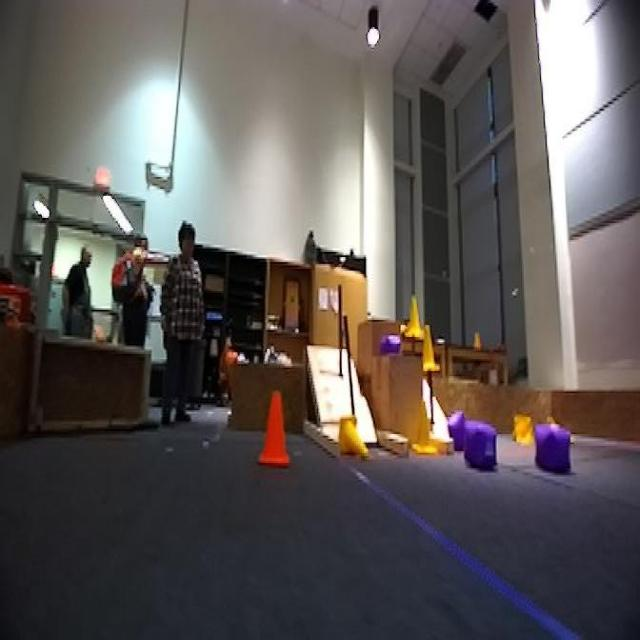frc_cone: (412, 397, 441, 456), (340, 416, 370, 462), (402, 294, 428, 340), (508, 412, 537, 446), (421, 325, 441, 373)
frc_cube: (535, 421, 575, 474), (463, 419, 497, 466), (444, 410, 468, 448), (378, 334, 402, 356)
